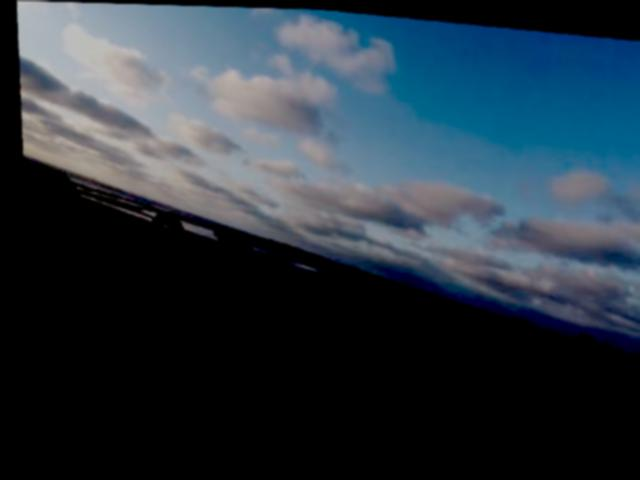uav: (168, 404, 209, 431)
